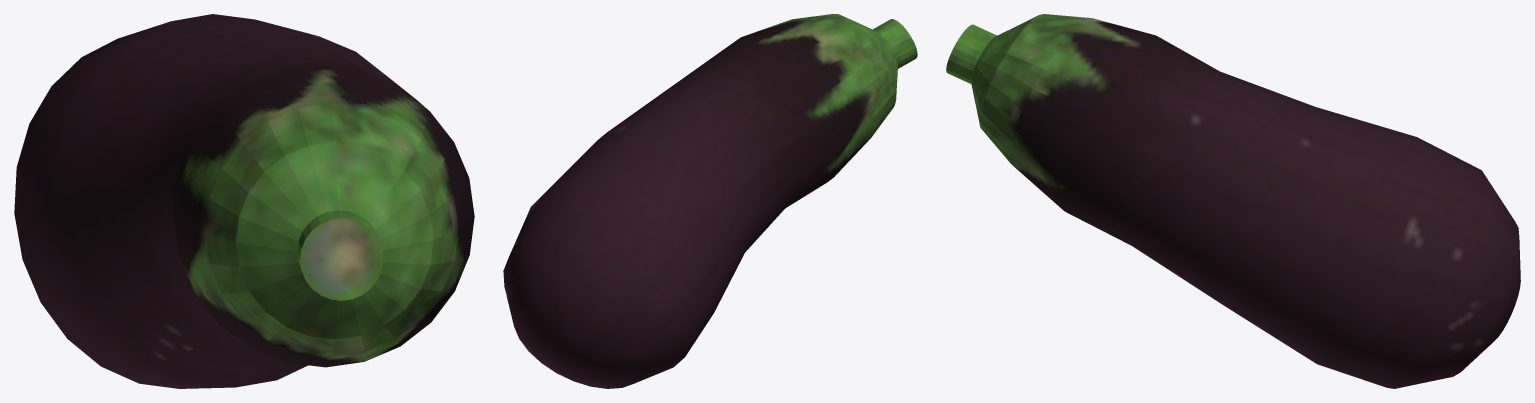
Rendered from SM_配餐室_水果蔬菜_08.fbx.
3 renders of one model, left to right at view 1: azimuth 30°, elevation 25°; view 2: azimuth 150°, elevation 25°; view 3: azimuth 270°, elevation 25°, orthographic. The views are drawn at different scales.
Visible parts, largest first — view 1: SM_配餐室_水果蔬菜_08; view 2: SM_配餐室_水果蔬菜_08; view 3: SM_配餐室_水果蔬菜_08.
Part boxes in pixels (box(x1,y1,x2,y2)): SM_配餐室_水果蔬菜_08: box(14, 14, 474, 388); SM_配餐室_水果蔬菜_08: box(503, 14, 917, 388); SM_配餐室_水果蔬菜_08: box(946, 14, 1520, 388).
Bounding box in the file's own units: 65.53 × 75.36 × 125.
